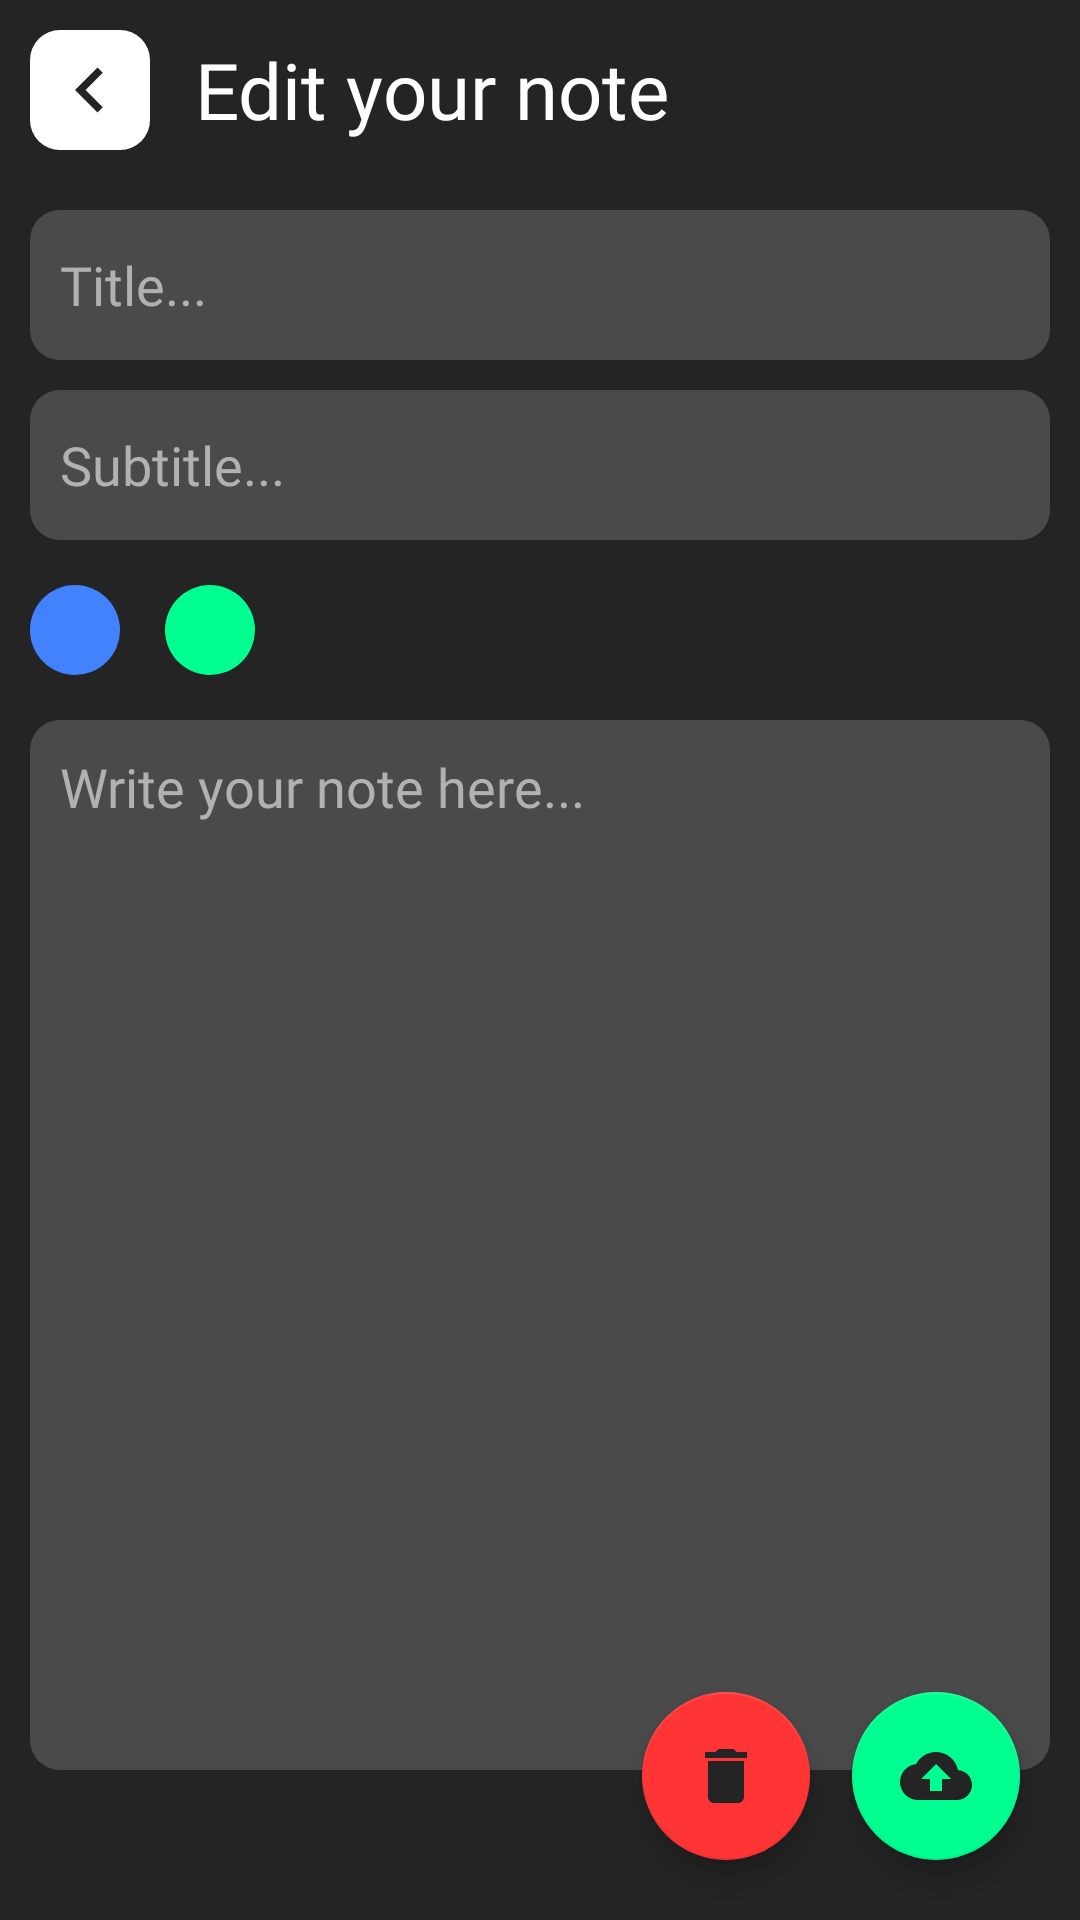

Named icons in this screenshot (1080px x 1920px) and their centers, (x,y):
arrow back: (90,90)
delete: (726,1776)
update: (936,1776)
